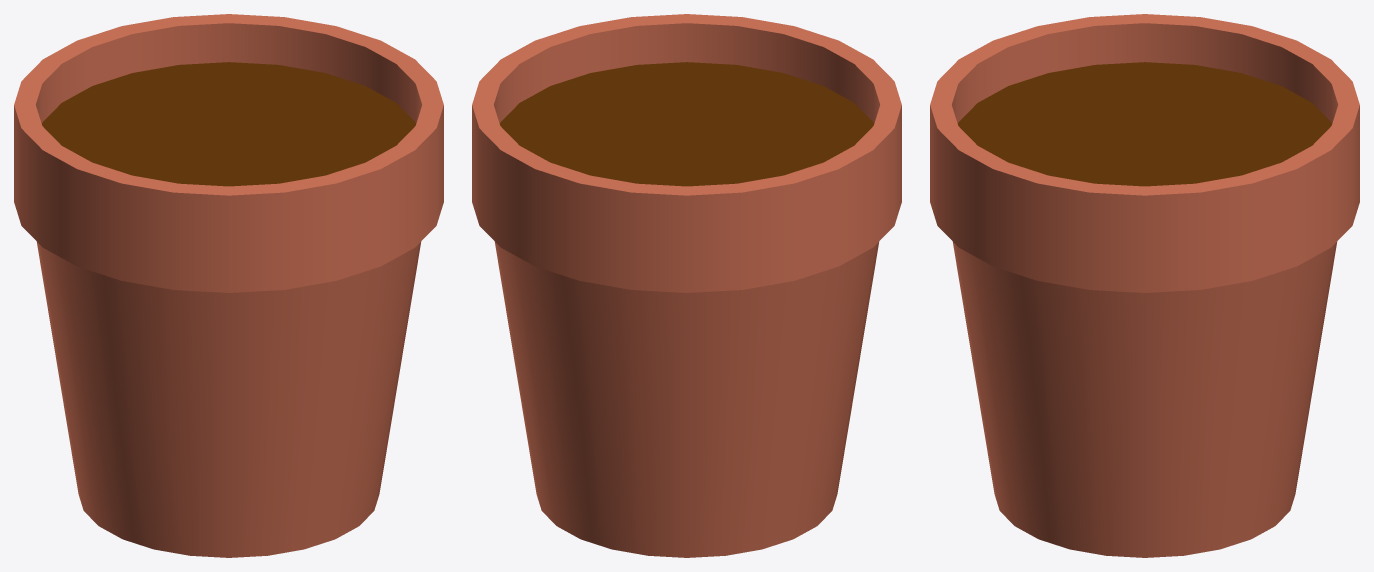
The model's file is pot.glb.
3 renders of one model, left to right at view 1: azimuth 30°, elevation 25°; view 2: azimuth 150°, elevation 25°; view 3: azimuth 270°, elevation 25°, orthographic.
Parts seen in each view (by area): view 1: 3d-model; view 2: 3d-model; view 3: 3d-model.
Boxes of the visible parts, bbox=[...] form: 3d-model: bbox=[14, 14, 443, 557]; 3d-model: bbox=[472, 14, 901, 557]; 3d-model: bbox=[930, 14, 1359, 557].
Bounding box in the file's own units: 7.87 × 7.87 × 7.87.
